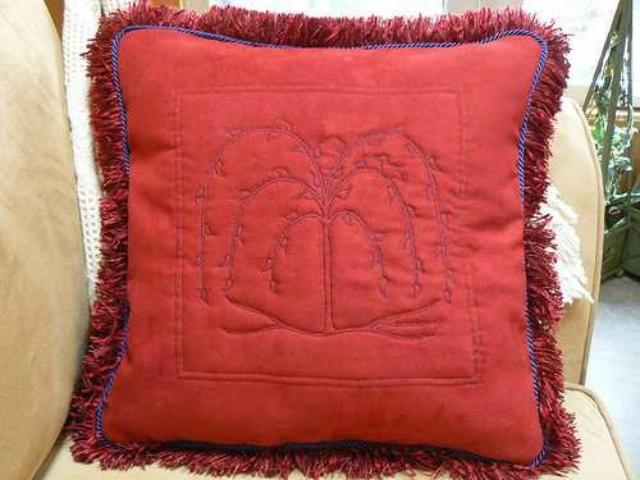pillow: (78, 5, 582, 470)
